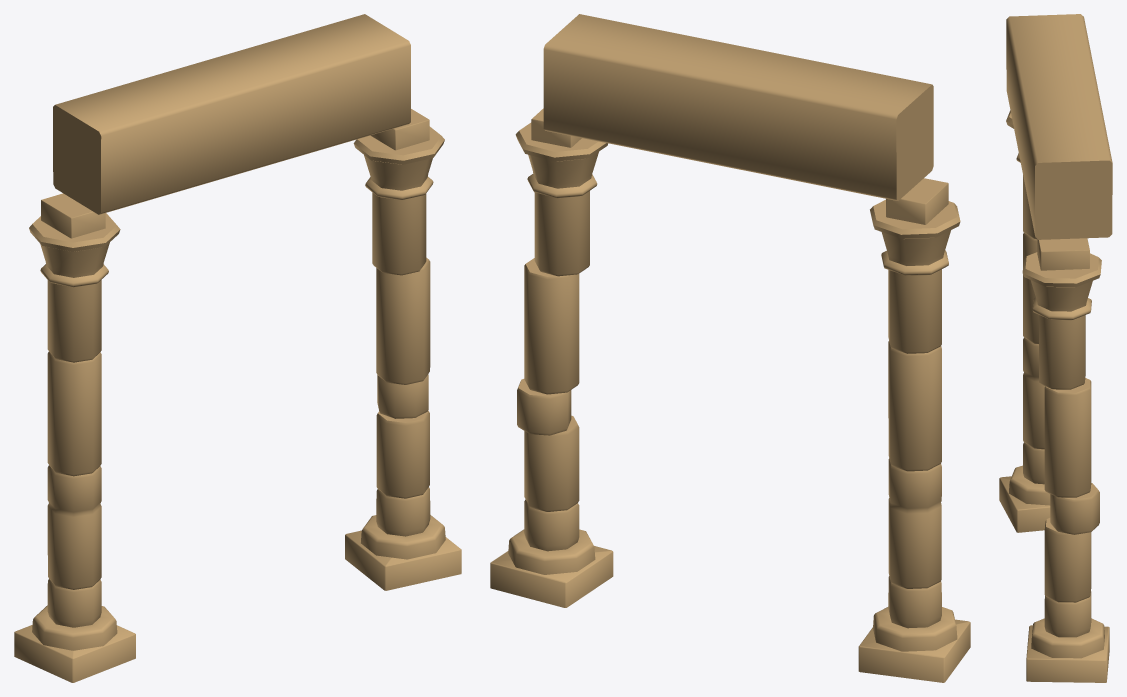
File: PillarsPair.fbx
The picture shows the model from 3 angles, left to right: view 1: azimuth 30°, elevation 25°; view 2: azimuth 150°, elevation 25°; view 3: azimuth 270°, elevation 25°; orthographic projection. The views are drawn at different scales.
Visible parts, largest first — view 1: Cube.003; view 2: Cube.003; view 3: Cube.003.
Part boxes in pixels (x1,y1,x2,y2): Cube.003: [14, 14, 461, 682]; Cube.003: [490, 14, 970, 682]; Cube.003: [999, 14, 1112, 682].
Size of the model in its own units: 1120 by 1363 by 281.
